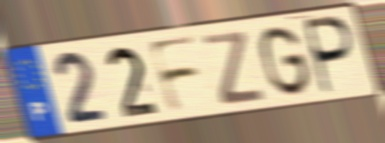2: (51, 48, 113, 128), (106, 44, 160, 120)
F: (145, 33, 204, 116)
G: (258, 23, 314, 99)
P: (303, 14, 358, 98)
Z: (200, 29, 267, 108)
